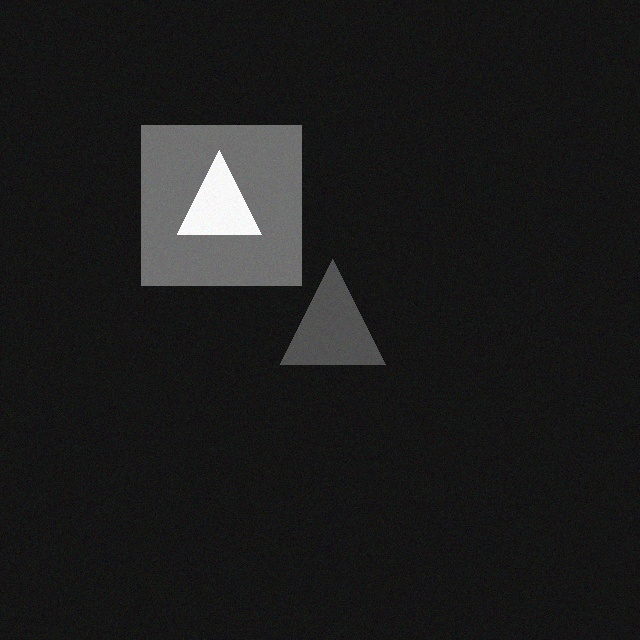square: (142, 129, 302, 289)
triangle: (281, 263, 386, 368), (178, 154, 262, 238)
